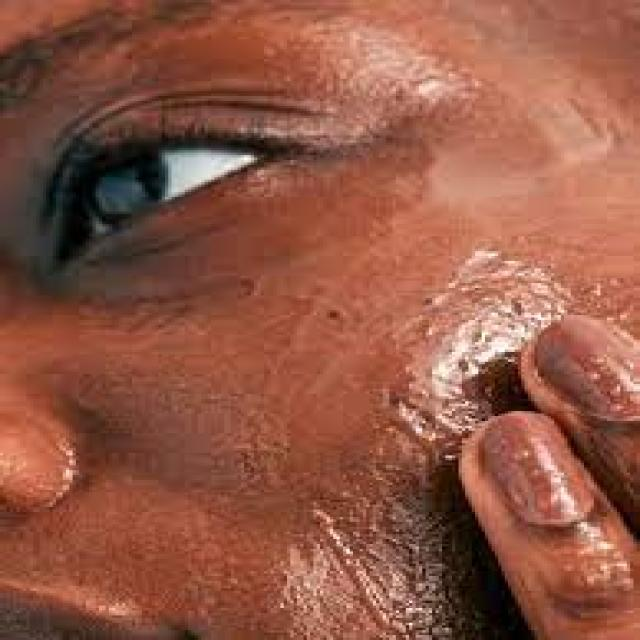Oily-Skin: (374, 6, 586, 176)
